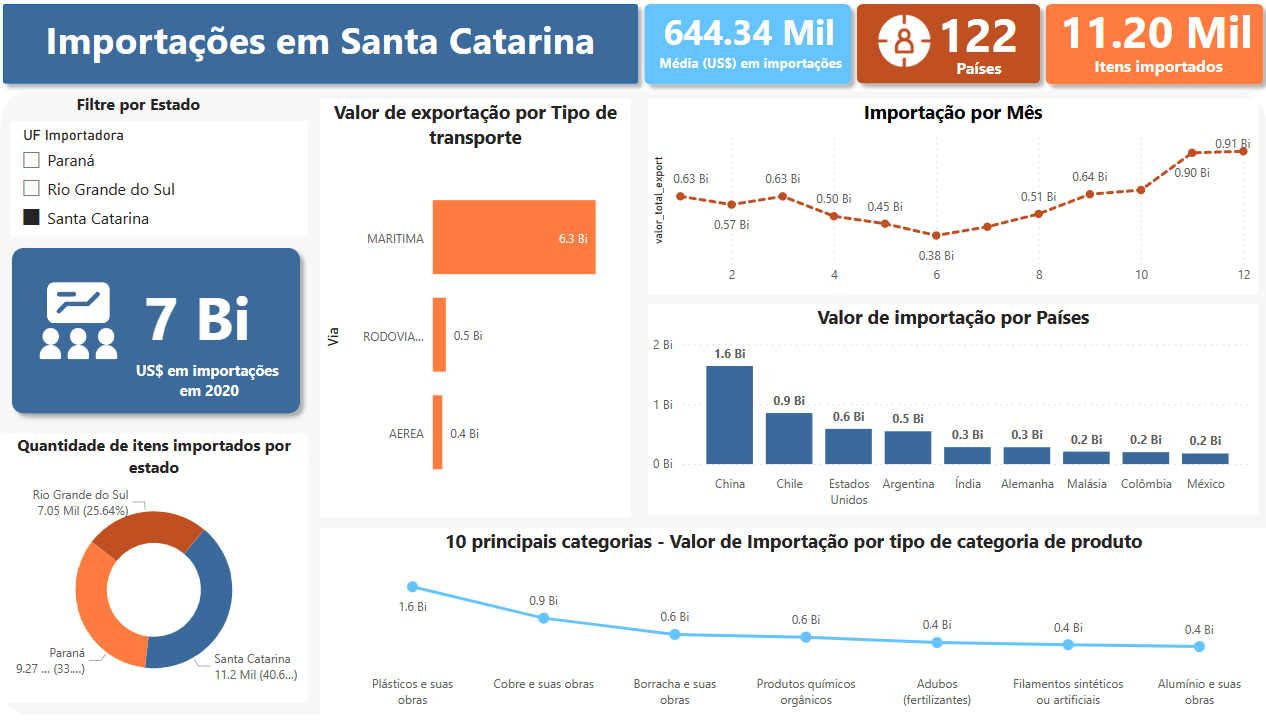

What the dashboard file says about the page in this screenshot:
{"tool":"powerbi","page":{"name":"Informações importações","canvas":[1280,720],"ordinal":2},"visuals":[{"type":"shape","box":[0,0,653.2,97.4],"z":0},{"type":"textbox","box":[16.5,13.7,620.2,65.9],"z":1000},{"type":"shape","box":[640.8,0,225,98.8],"z":2000},{"type":"shape","box":[853.5,0,201.7,97.4],"z":3000},{"type":"shape","box":[6.9,96.1,1266.6,624.4],"z":4000},{"type":"card","fields":{"Values":["Dados - Importação do Sul xlsx - Dados - Importação do Sul (1).valor_total_export"]},"box":[393.8,336.2,124.9,46.7],"z":5000},{"type":"card","fields":{"Values":["Count(Dados - Importação do Sul xlsx - Dados - Importação do Sul (1).País Importado)"]},"box":[924,14.3,120.8,48],"z":6000},{"type":"textbox","box":[918,56.3,130.4,32.9],"z":7000},{"type":"clusteredBarChart","title":"Valor de exportação por Tipo de transporte","fields":{"Category":["Dados - Importação do Sul xlsx - Dados - Importação do Sul (1).Via"],"Y":["Dados - Importação do Sul xlsx - Dados - Importação do Sul (1).valor_total_export"]},"box":[326.6,104.3,310.1,418.5],"z":8000},{"type":"clusteredColumnChart","title":"Valor de importação por Países","fields":{"Category":["Dados - Importação do Sul xlsx - Dados - Importação do Sul (1).País Importado"],"Y":["Dados - Importação do Sul xlsx - Dados - Importação do Sul (1).valor_total_export"]},"box":[653.2,308.7,610.6,211.3],"z":9000},{"type":"lineChart","title":"Importação por Mês","fields":{"Y":["Dados - Importação do Sul xlsx - Dados - Importação do Sul (1).valor_total_export"],"Category":["Dados - Importação do Sul xlsx - Dados - Importação do Sul (1).Mês"]},"box":[653.2,104.3,610.6,194.9],"z":10000},{"type":"image","box":[878.2,15.1,63.1,61.7],"z":12000},{"type":"textbox","box":[649.1,53.5,215.4,37],"z":13000},{"type":"shape","box":[1042.9,0,236,98.8],"z":14000},{"type":"textbox","box":[54.9,91.9,178.4,34.3],"z":15000},{"type":"card","fields":{"Values":["CountNonNull(Dados - Importação do Sul xlsx - Dados - Importação do Sul (1).valor_export)"]},"box":[1059.4,0,207.2,68.6],"z":16000},{"type":"textbox","box":[1090.9,54.9,146.8,34.3],"z":17000},{"type":"donutChart","title":"Quantidade de itens importados por estado","fields":{"Y":["CountNonNull(Dados - Importação do Sul xlsx - Dados - Importação do Sul.FOB (US$))"],"Category":["Dados - Importação do Sul xlsx - Dados - Importação do Sul.UF Importadora"]},"box":[6.9,439.1,307.4,269],"z":18000},{"type":"lineChart","title":"10 principais categorias - Valor de Importação por tipo de categoria de produto","fields":{"Category":["Dados - Importação do Sul xlsx - Dados - Importação do Sul (1).Produto"],"Y":["Dados - Importação do Sul xlsx - Dados - Importação do Sul (1).valor_total_export"]},"box":[326.6,532.4,946.8,188],"z":19000},{"type":"slicer","fields":{"Values":["Dados - Importação do Sul xlsx - Dados - Importação do Sul (1).UF Importadora"]},"box":[16.5,126.2,297.8,115.3],"z":20000},{"type":"card","fields":{"Values":["Dados - Importação do Sul xlsx - Dados - Importação do Sul (1).valor_medio"]},"box":[662.8,13.7,185.2,46.7],"z":21000},{"type":"shape","box":[8.2,244.3,306,183.9],"z":22000},{"type":"image","box":[39.8,282.7,89.2,86.4],"z":22001},{"type":"card","fields":{"Values":["Dados - Importação do Sul xlsx - Dados - Importação do Sul (1).valor_total_export"]},"box":[131.7,279.9,144.1,76.8],"z":22002},{"type":"textbox","box":[129,359.5,172.9,54.9],"z":22003}]}

Visuals, with their boxes in screenshot pixels (x1, y1, x2, y2), scaled from the page's 1280x720 canvas onto the 1266x727 screenshot:
shape: Rect(0, 0, 646, 98)
textbox: Rect(16, 14, 630, 80)
shape: Rect(634, 0, 856, 100)
shape: Rect(844, 0, 1044, 98)
shape: Rect(7, 97, 1260, 726)
card - Dados - Importação do Sul xlsx - Dados - Importação do Sul (1).valor_total_export: Rect(389, 339, 513, 387)
card - Count(Dados - Importação do Sul xlsx - Dados - Importação do Sul (1).País Importado): Rect(914, 14, 1033, 63)
textbox: Rect(908, 57, 1037, 90)
"Valor de exportação por Tipo de transporte" clusteredBarChart: Rect(323, 105, 630, 528)
"Valor de importação por Países" clusteredColumnChart: Rect(646, 312, 1250, 525)
"Importação por Mês" lineChart: Rect(646, 105, 1250, 302)
image: Rect(869, 15, 931, 78)
textbox: Rect(642, 54, 855, 91)
shape: Rect(1031, 0, 1265, 100)
textbox: Rect(54, 93, 231, 127)
card - CountNonNull(Dados - Importação do Sul xlsx - Dados - Importação do Sul (1).valor_export): Rect(1048, 0, 1253, 69)
textbox: Rect(1079, 55, 1224, 90)
"Quantidade de itens importados por estado" donutChart: Rect(7, 443, 311, 715)
"10 principais categorias - Valor de Importação por tipo de categoria de produto" lineChart: Rect(323, 538, 1259, 726)
slicer - Dados - Importação do Sul xlsx - Dados - Importação do Sul (1).UF Importadora: Rect(16, 127, 311, 244)
card - Dados - Importação do Sul xlsx - Dados - Importação do Sul (1).valor_medio: Rect(656, 14, 839, 61)
shape: Rect(8, 247, 311, 432)
image: Rect(39, 285, 128, 373)
card - Dados - Importação do Sul xlsx - Dados - Importação do Sul (1).valor_total_export: Rect(130, 283, 273, 360)
textbox: Rect(128, 363, 299, 418)
